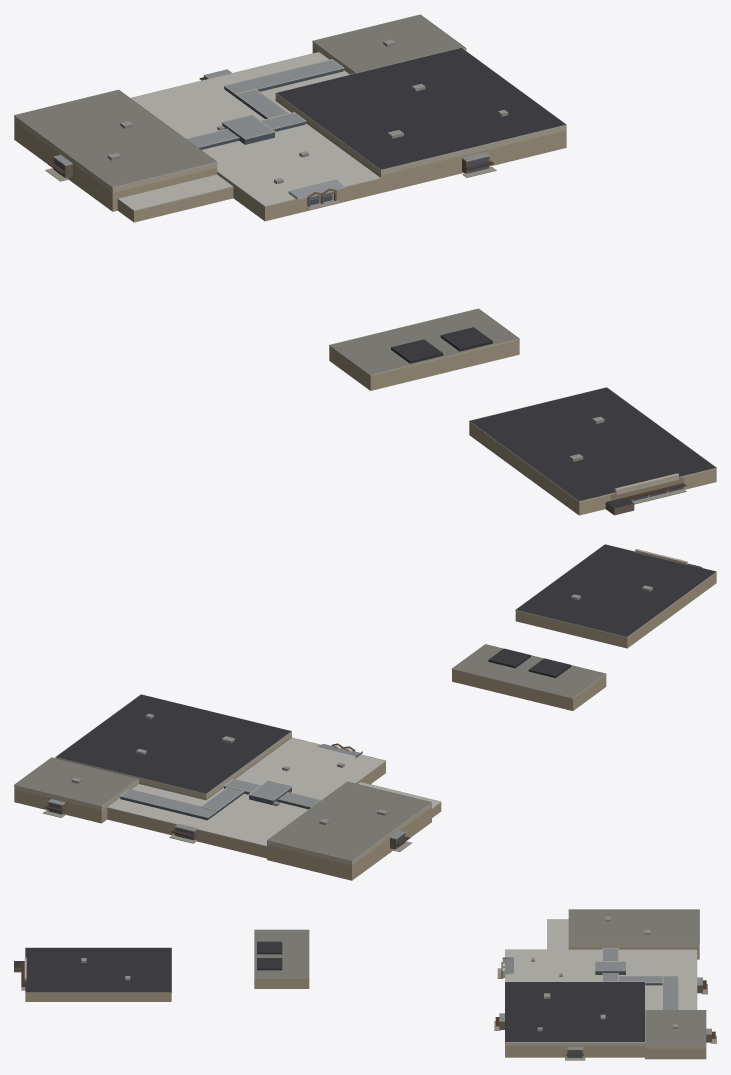
Rendered from university-mall.glb.
3 renders of one model, top to bottom at view 1: azimuth 30°, elevation 25°; view 2: azimuth 150°, elevation 25°; view 3: azimuth 270°, elevation 25°, orthographic. The views are drawn at different scales.
Parts seen in each view (by area): view 1: university_mall; view 2: university_mall; view 3: university_mall.
Boxes of the visible parts, x1,y1,x2,y2 form: university_mall: (14,14,716,515); university_mall: (14,544,716,880); university_mall: (14,909,716,1060).
Size of the model in its own units: 262 by 26.6 by 552.
